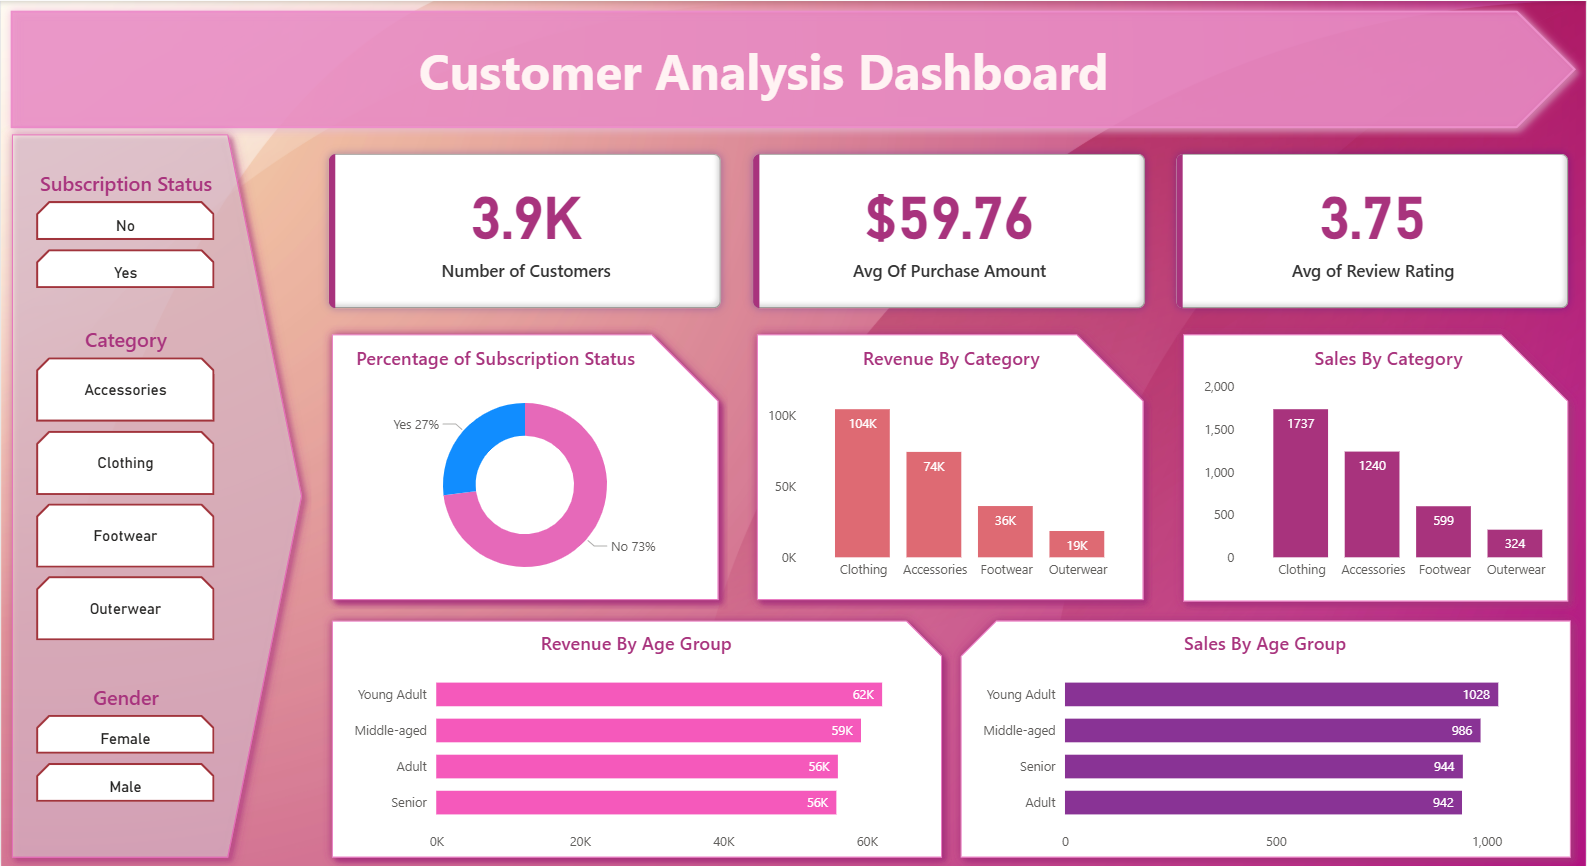

The page's visual inventory and layout, read from the dashboard file:
{"tool":"powerbi","page":{"name":"Page 1","canvas":[1500,820],"ordinal":0},"visuals":[{"type":"cardVisual","fields":{"Data":["customer_behavior customer.Number of Customers","customer_behavior customer.Avg Of Purchase Amount","customer_behavior customer.Avg of Review Rating"]},"box":[294.3,129.5,1205.9,178.5],"z":0},{"type":"shape","box":[0,0,1500.3,129.5],"z":1000},{"type":"shape","box":[303.9,306.6,384.3,269.8],"z":2000},{"type":"donutChart","title":"Percentage of Subscription Status","fields":{"Category":["customer_behavior customer.subscription_status"],"Y":["CountNonNull(customer_behavior customer.customer_id)"]},"box":[331,327,329.8,241.2],"z":3000},{"type":"shape","box":[706.9,306.6,384.3,269.8],"z":4000},{"type":"shape","box":[1110,306,382.9,271.2],"z":5000},{"type":"clusteredColumnChart","title":"Revenue By Category","fields":{"Y":["Sum(customer_behavior customer.purchase_amount)"],"Category":["customer_behavior customer.category"]},"box":[720.8,327,358.4,230.3],"z":6000},{"type":"clusteredColumnChart","title":"Sales By Category","fields":{"Y":["CountNonNull(customer_behavior customer.customer_id)"],"Category":["customer_behavior customer.category"]},"box":[1133.7,327,360,230.3],"z":7000},{"type":"shape","box":[1.4,117.2,293,703.1],"z":8000},{"type":"advancedSlicerVisual","title":"Subscription Status","fields":{"Values":["customer_behavior customer.subscription_status"]},"box":[28.6,159.4,179.9,118.6],"z":9000},{"type":"advancedSlicerVisual","title":"Gender","fields":{"Values":["customer_behavior customer.gender"]},"box":[28.6,645.9,179.9,118.6],"z":10000},{"type":"advancedSlicerVisual","title":"Category","fields":{"Values":["customer_behavior customer.category"]},"box":[28.6,308,179.9,305.2],"z":11000},{"type":"shape","box":[303.9,577.8,596,242.6],"z":12000},{"type":"shape","box":[899,577.8,596,242.6],"z":13000},{"type":"clusteredBarChart","title":"Revenue By Age Group","fields":{"Category":["customer_behavior customer.age_group"],"Y":["Sum(customer_behavior customer.purchase_amount)"]},"box":[324.3,596.8,554.6,218],"z":14000},{"type":"clusteredBarChart","title":"Sales By Age Group","fields":{"Category":["customer_behavior customer.age_group"],"Y":["CountNonNull(customer_behavior customer.customer_id)"]},"box":[919.8,596.8,554.6,218],"z":14001}]}

Visuals, with their boxes in screenshot pixels (x1, y1, x2, y2), scaled from the page's 1500x820 canvas onto the 1587x866 screenshot:
cardVisual - customer_behavior customer.Number of Customers x customer_behavior customer.Avg Of Purchase Amount: rect(311, 137, 1586, 325)
shape: rect(0, 0, 1586, 137)
shape: rect(322, 324, 728, 609)
"Percentage of Subscription Status" donutChart: rect(350, 345, 699, 600)
shape: rect(748, 324, 1154, 609)
shape: rect(1174, 323, 1579, 610)
"Revenue By Category" clusteredColumnChart: rect(763, 345, 1142, 589)
"Sales By Category" clusteredColumnChart: rect(1199, 345, 1580, 589)
shape: rect(1, 124, 311, 865)
"Subscription Status" advancedSlicerVisual: rect(30, 168, 221, 294)
"Gender" advancedSlicerVisual: rect(30, 682, 221, 807)
"Category" advancedSlicerVisual: rect(30, 325, 221, 648)
shape: rect(322, 610, 952, 865)
shape: rect(951, 610, 1582, 865)
"Revenue By Age Group" clusteredBarChart: rect(343, 630, 930, 861)
"Sales By Age Group" clusteredBarChart: rect(973, 630, 1560, 861)
